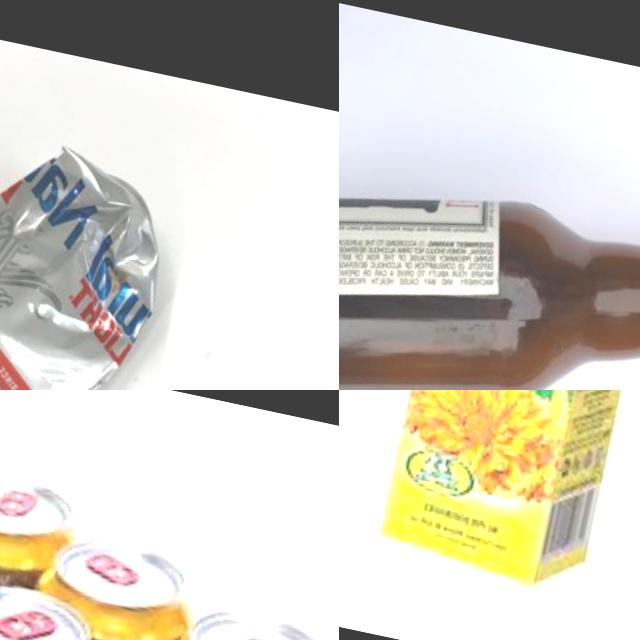aba de lata: (78, 542, 144, 592), (0, 594, 58, 640), (0, 477, 42, 524), (215, 619, 288, 640)
caixinha: (371, 390, 640, 598)
garrafa de vidro: (339, 137, 640, 390)
lata: (22, 525, 199, 640), (0, 457, 75, 614)
papel: (0, 119, 184, 390)
